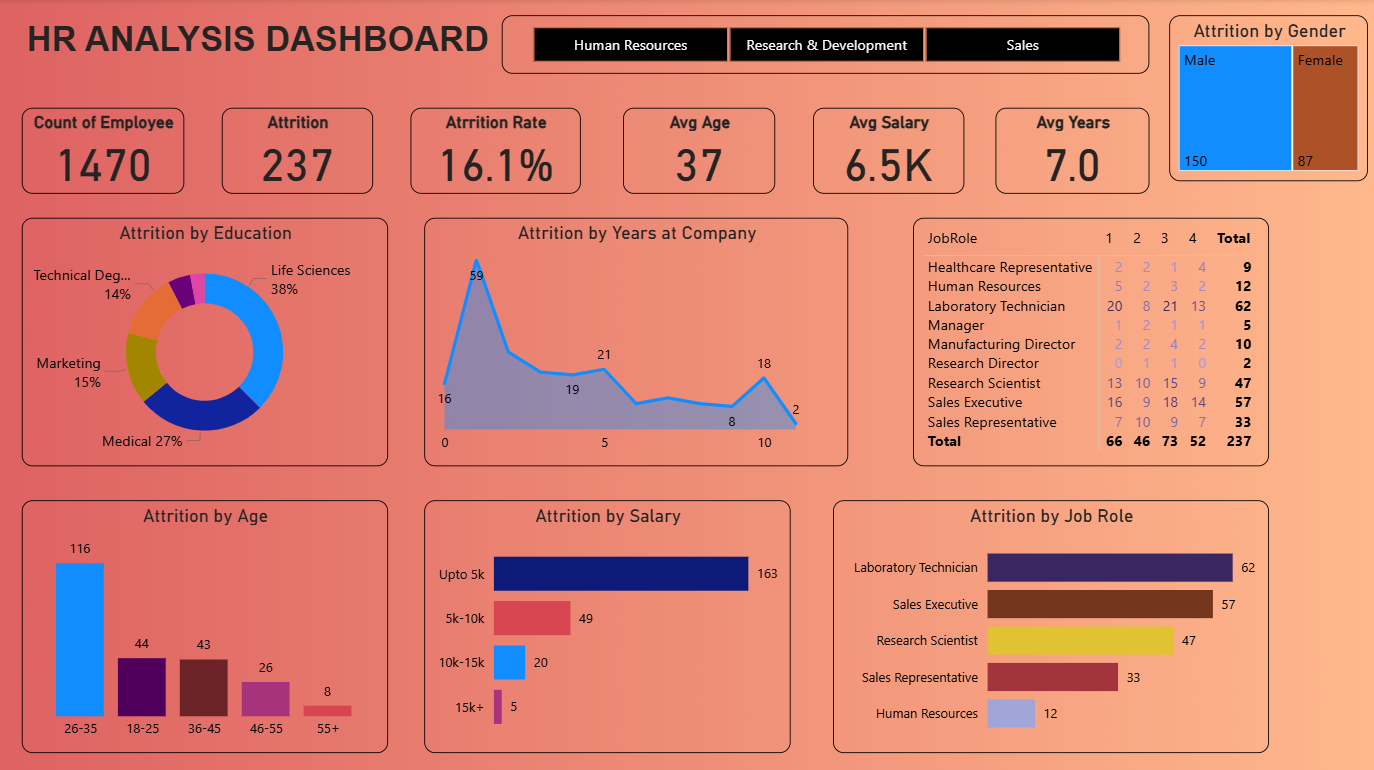

What the dashboard file says about the page in this screenshot:
{"tool":"powerbi","page":{"name":"Page 1","canvas":[1280,720],"ordinal":0},"visuals":[{"type":"card","title":"Count of Employee","fields":{"Values":["CountNonNull(HR_Analytics.EmpID)"]},"box":[21.6,101.4,151.4,79.7],"z":0},{"type":"card","title":"Attrition","fields":{"Values":["Sum(HR_Analytics.AttritionCount)"]},"box":[208.1,101.4,140.5,79.7],"z":1000},{"type":"card","title":"Avg Age","fields":{"Values":["Avg(HR_Analytics.Age)"]},"box":[581.1,101.4,141.9,79.7],"z":2000},{"type":"card","title":"Atrrition Rate","fields":{"Values":["HR_Analytics.AttritionRate"]},"box":[383.8,101.4,158.1,79.7],"z":3000},{"type":"card","title":"Avg Salary","fields":{"Values":["Avg(HR_Analytics.MonthlyIncome)"]},"box":[758.1,101.4,140.5,79.7],"z":4000},{"type":"card","title":"Avg Years","fields":{"Values":["Avg(HR_Analytics.YearsAtCompany)"]},"box":[928.4,101.4,143.2,79.7],"z":5000},{"type":"donutChart","title":"Attrition by Education","fields":{"Category":["HR_Analytics.EducationField"],"Y":["Sum(HR_Analytics.AttritionCount)"]},"box":[21.6,204.1,340.5,231.1],"z":6000},{"type":"columnChart","title":"Attrition by Age","fields":{"Category":["HR_Analytics.AgeGroup"],"Y":["Sum(HR_Analytics.AttritionCount)"]},"box":[21.6,466.2,340.5,235.1],"z":7000},{"type":"pivotTable","fields":{"Rows":["HR_Analytics.JobRole"],"Columns":["HR_Analytics.JobSatisfaction"],"Values":["Sum(HR_Analytics.AttritionCount)"]},"box":[851.4,204.1,331.1,231.1],"z":8000},{"type":"barChart","title":"Attrition by Salary","fields":{"Category":["HR_Analytics.SalarySlab"],"Y":["Sum(HR_Analytics.AttritionCount)"]},"box":[395.9,466.2,340.5,235.1],"z":9000},{"type":"barChart","title":"Attrition by Job Role","fields":{"Category":["HR_Analytics.JobRole"],"Y":["Sum(HR_Analytics.AttritionCount)"]},"box":[777,466.2,405.4,235.1],"z":10000},{"type":"areaChart","title":"Attrition by Years at Company","fields":{"Category":["HR_Analytics.YearsAtCompany"],"Y":["Sum(HR_Analytics.AttritionCount)"]},"box":[395.9,204.1,394.6,231.1],"z":11000},{"type":"treemap","title":"Attrition by Gender","fields":{"Group":["HR_Analytics.Gender"],"Values":["Sum(HR_Analytics.AttritionCount)"]},"box":[1089.2,14.9,185.1,154.1],"z":12000},{"type":"slicer","fields":{"Values":["HR_Analytics.Department"]},"box":[468.9,14.9,602.7,54.1],"z":13000},{"type":"textbox","box":[22.1,15.1,486,67.4],"z":14000}]}

Visuals, with their boxes in screenshot pixels (x1, y1, x2, y2), scaled from the page's 1280x720 canvas onto the 1374x770 screenshot:
"Count of Employee" card: bbox=(23, 108, 186, 194)
"Attrition" card: bbox=(223, 108, 374, 194)
"Avg Age" card: bbox=(624, 108, 776, 194)
"Atrrition Rate" card: bbox=(412, 108, 582, 194)
"Avg Salary" card: bbox=(814, 108, 965, 194)
"Avg Years" card: bbox=(997, 108, 1150, 194)
"Attrition by Education" donutChart: bbox=(23, 218, 389, 465)
"Attrition by Age" columnChart: bbox=(23, 499, 389, 750)
pivotTable - HR_Analytics.JobRole x HR_Analytics.JobSatisfaction: bbox=(914, 218, 1269, 465)
"Attrition by Salary" barChart: bbox=(425, 499, 790, 750)
"Attrition by Job Role" barChart: bbox=(834, 499, 1269, 750)
"Attrition by Years at Company" areaChart: bbox=(425, 218, 849, 465)
"Attrition by Gender" treemap: bbox=(1169, 16, 1368, 181)
slicer - HR_Analytics.Department: bbox=(503, 16, 1150, 74)
textbox: bbox=(24, 16, 545, 88)
